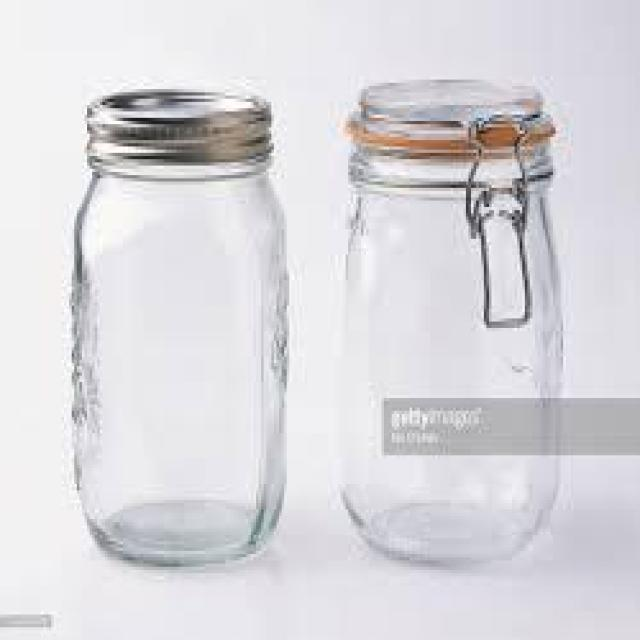Glass: (332, 79, 566, 572), (67, 87, 291, 568)
